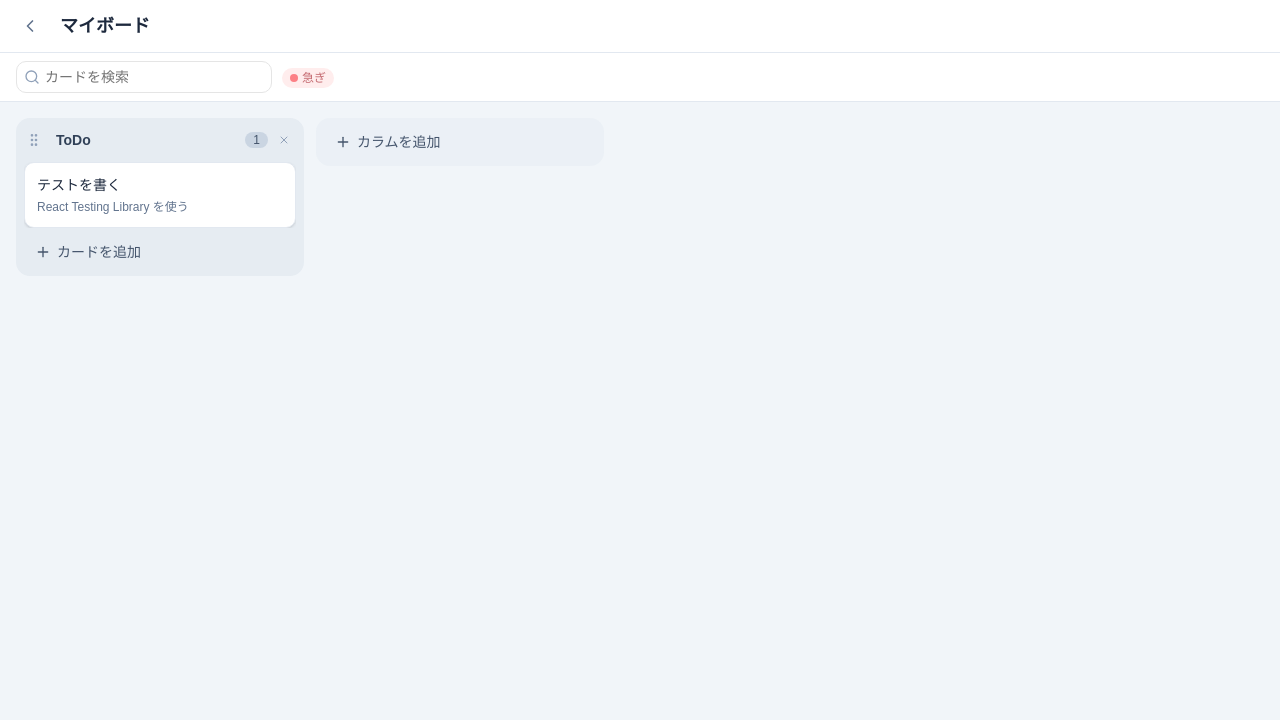
Test: カラム › 削除すると、確認したあとで中のカードと一緒に消える
Expected: the heading "マイボード" is shown, [52, 8, 1264, 44]
Click the button named "「ToDo」を削除" at (284, 140), box [272, 128, 296, 152]
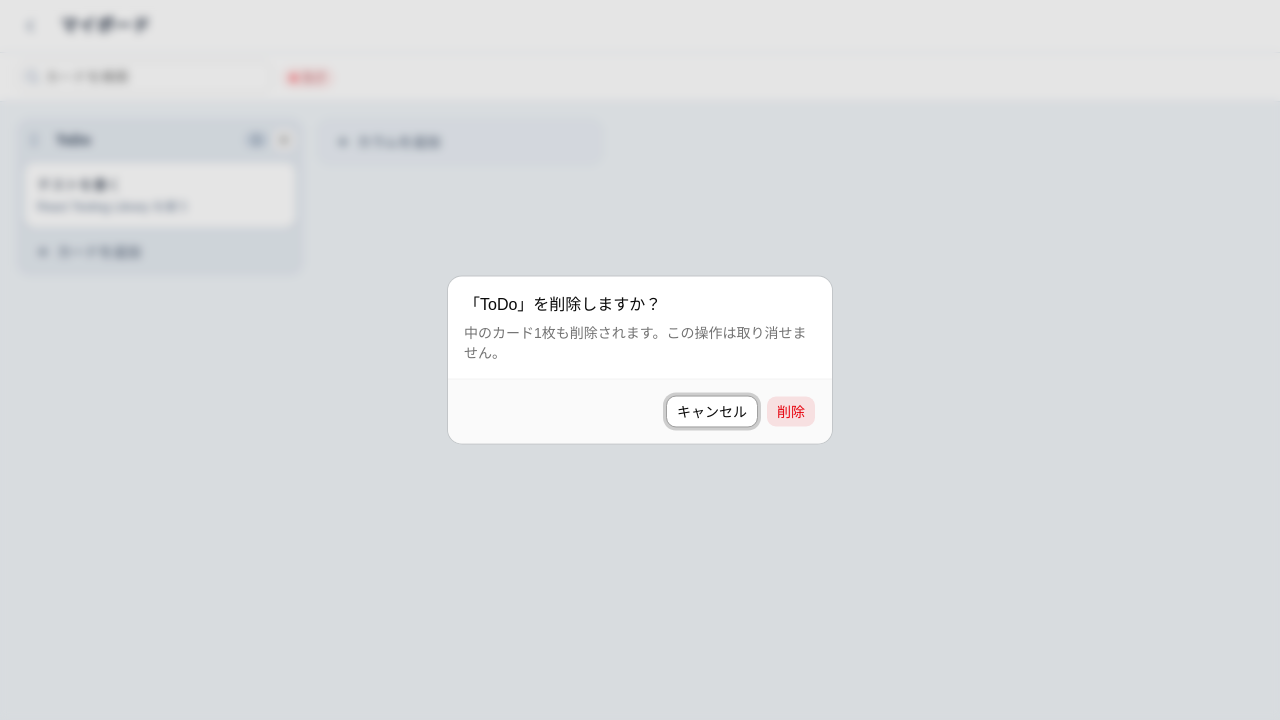
Expected: the text "中のカード1枚も削除されます。この操作は取り消せません。" is shown, [464, 322, 816, 362]
Click the button "削除" at (791, 412), box [766, 396, 816, 428]
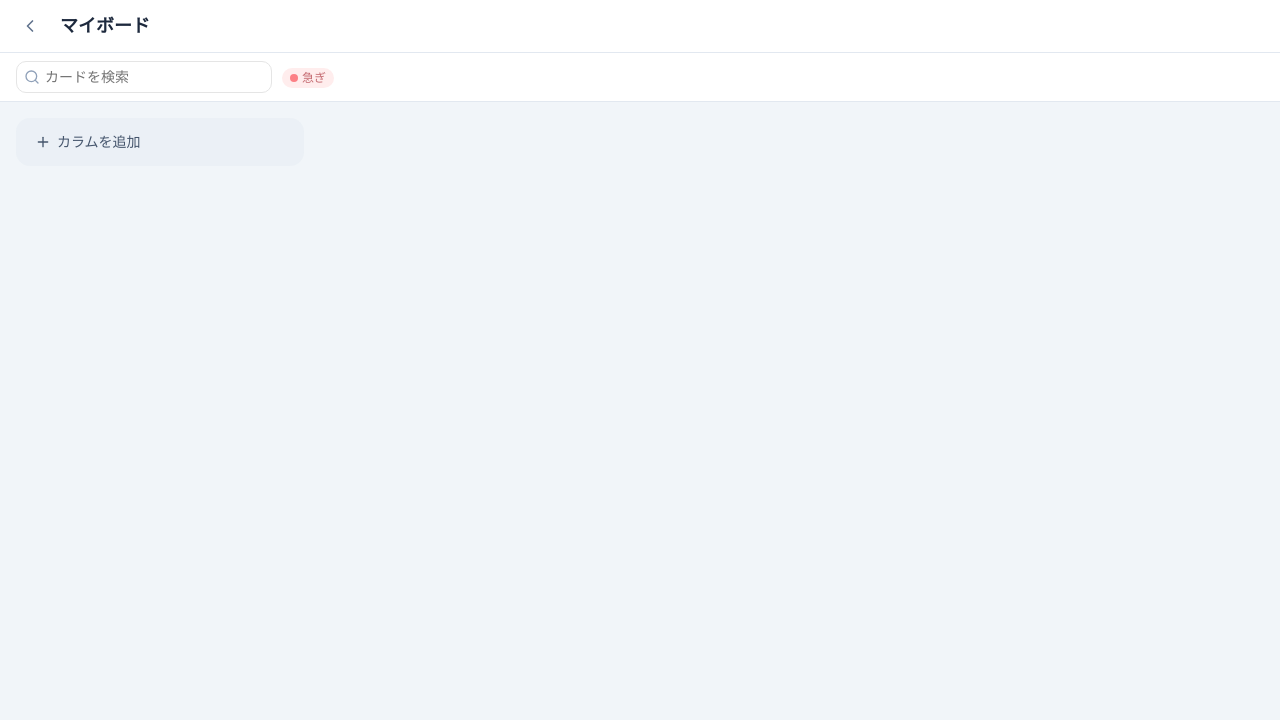
Expected: the button "ToDo" is gone
Expected: the button "カード「テストを書く」" is gone
